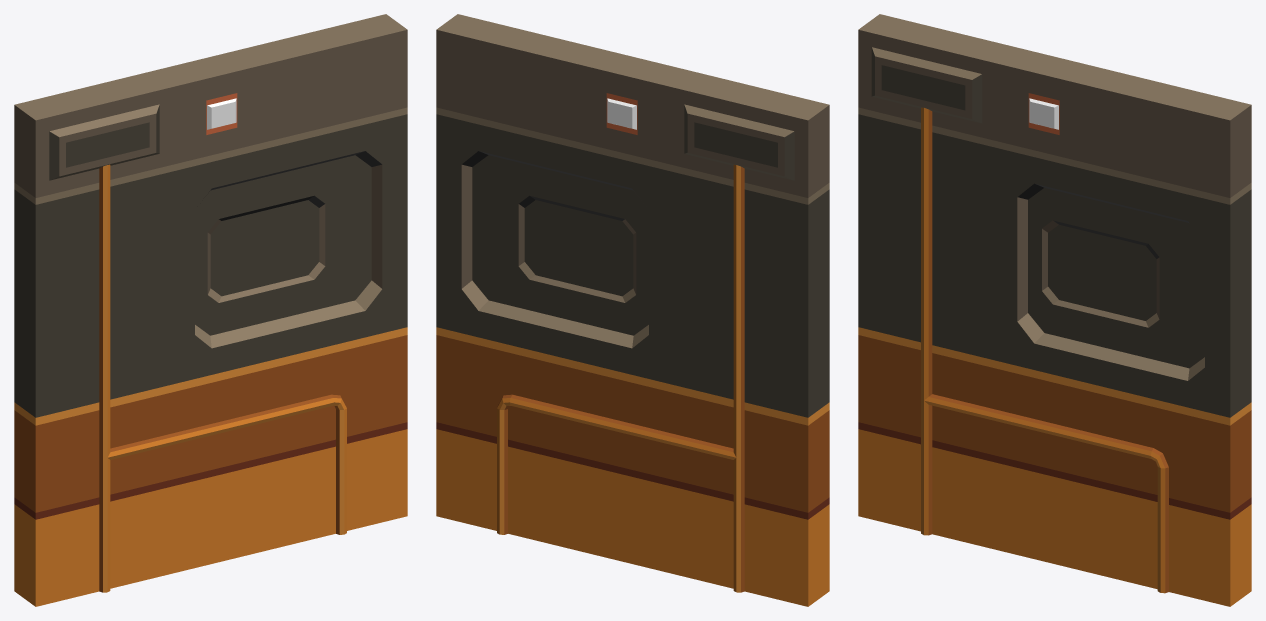
File: Cosmic_retro_station_wall_plain_02.fbx
The picture shows the model from 3 angles, left to right: view 1: azimuth 30°, elevation 25°; view 2: azimuth 150°, elevation 25°; view 3: azimuth 330°, elevation 25°; orthographic projection.
Visible parts, largest first — view 1: Cosmic_retro_station_wall_plain_02, Cosmic_retro_mesa_wall_plain_Light_02; view 2: Cosmic_retro_station_wall_plain_02, Cosmic_retro_mesa_wall_plain_Light_02; view 3: Cosmic_retro_station_wall_plain_02, Cosmic_retro_mesa_wall_plain_Light_02.
Boxes of the visible parts, x1,y1,x2,y2 form: Cosmic_retro_station_wall_plain_02: (14, 14, 407, 606); Cosmic_retro_mesa_wall_plain_Light_02: (206, 93, 237, 134); Cosmic_retro_station_wall_plain_02: (436, 14, 829, 606); Cosmic_retro_mesa_wall_plain_Light_02: (606, 93, 637, 134); Cosmic_retro_station_wall_plain_02: (858, 14, 1251, 606); Cosmic_retro_mesa_wall_plain_Light_02: (1028, 93, 1059, 134).
Bounding box in the file's own units: 2 × 2.5 × 0.2633.
